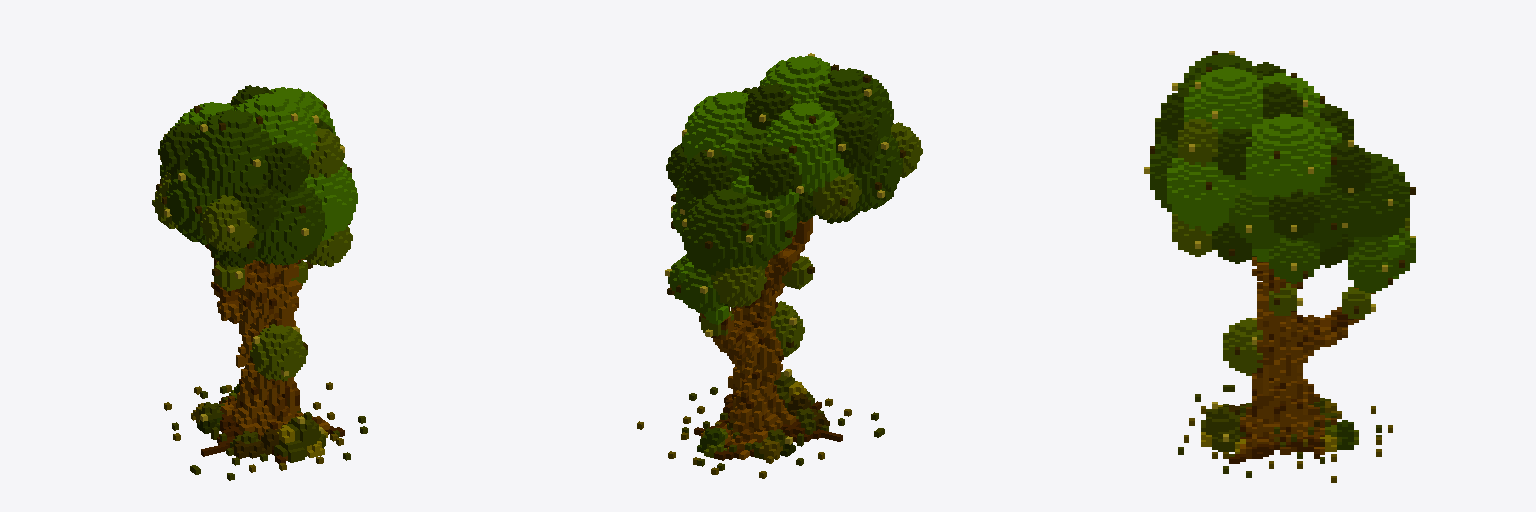
The picture shows the model from 3 angles: view 1: azimuth 30°, elevation 25°; view 2: azimuth 150°, elevation 25°; view 3: azimuth 270°, elevation 25°; orthographic projection.
Size of the model in its own units: 42 by 69 by 48.
1 materials, 1 textured.